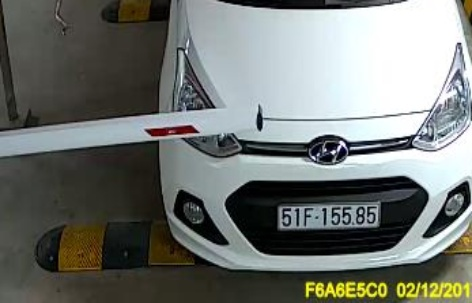plate: (277, 197, 383, 234)
